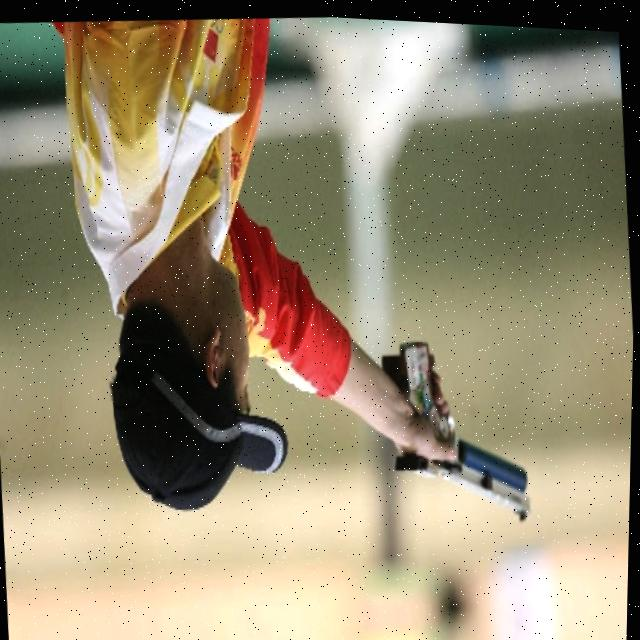pistol: (386, 326, 535, 524)
